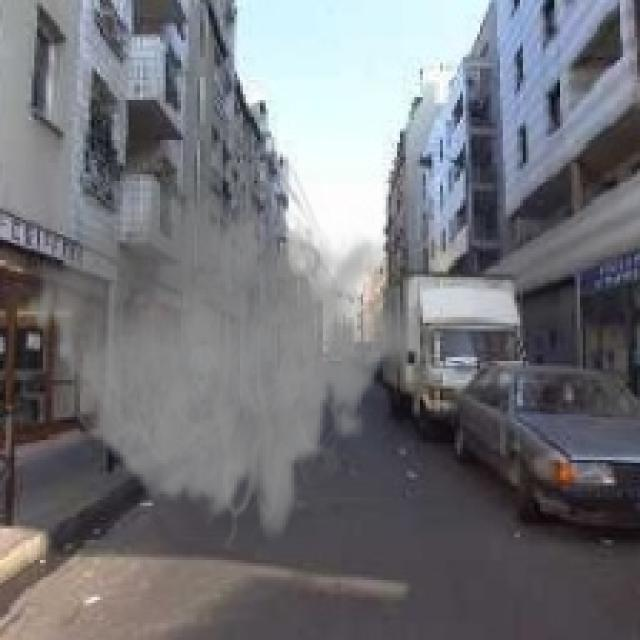smoke: (28, 143, 426, 554)
